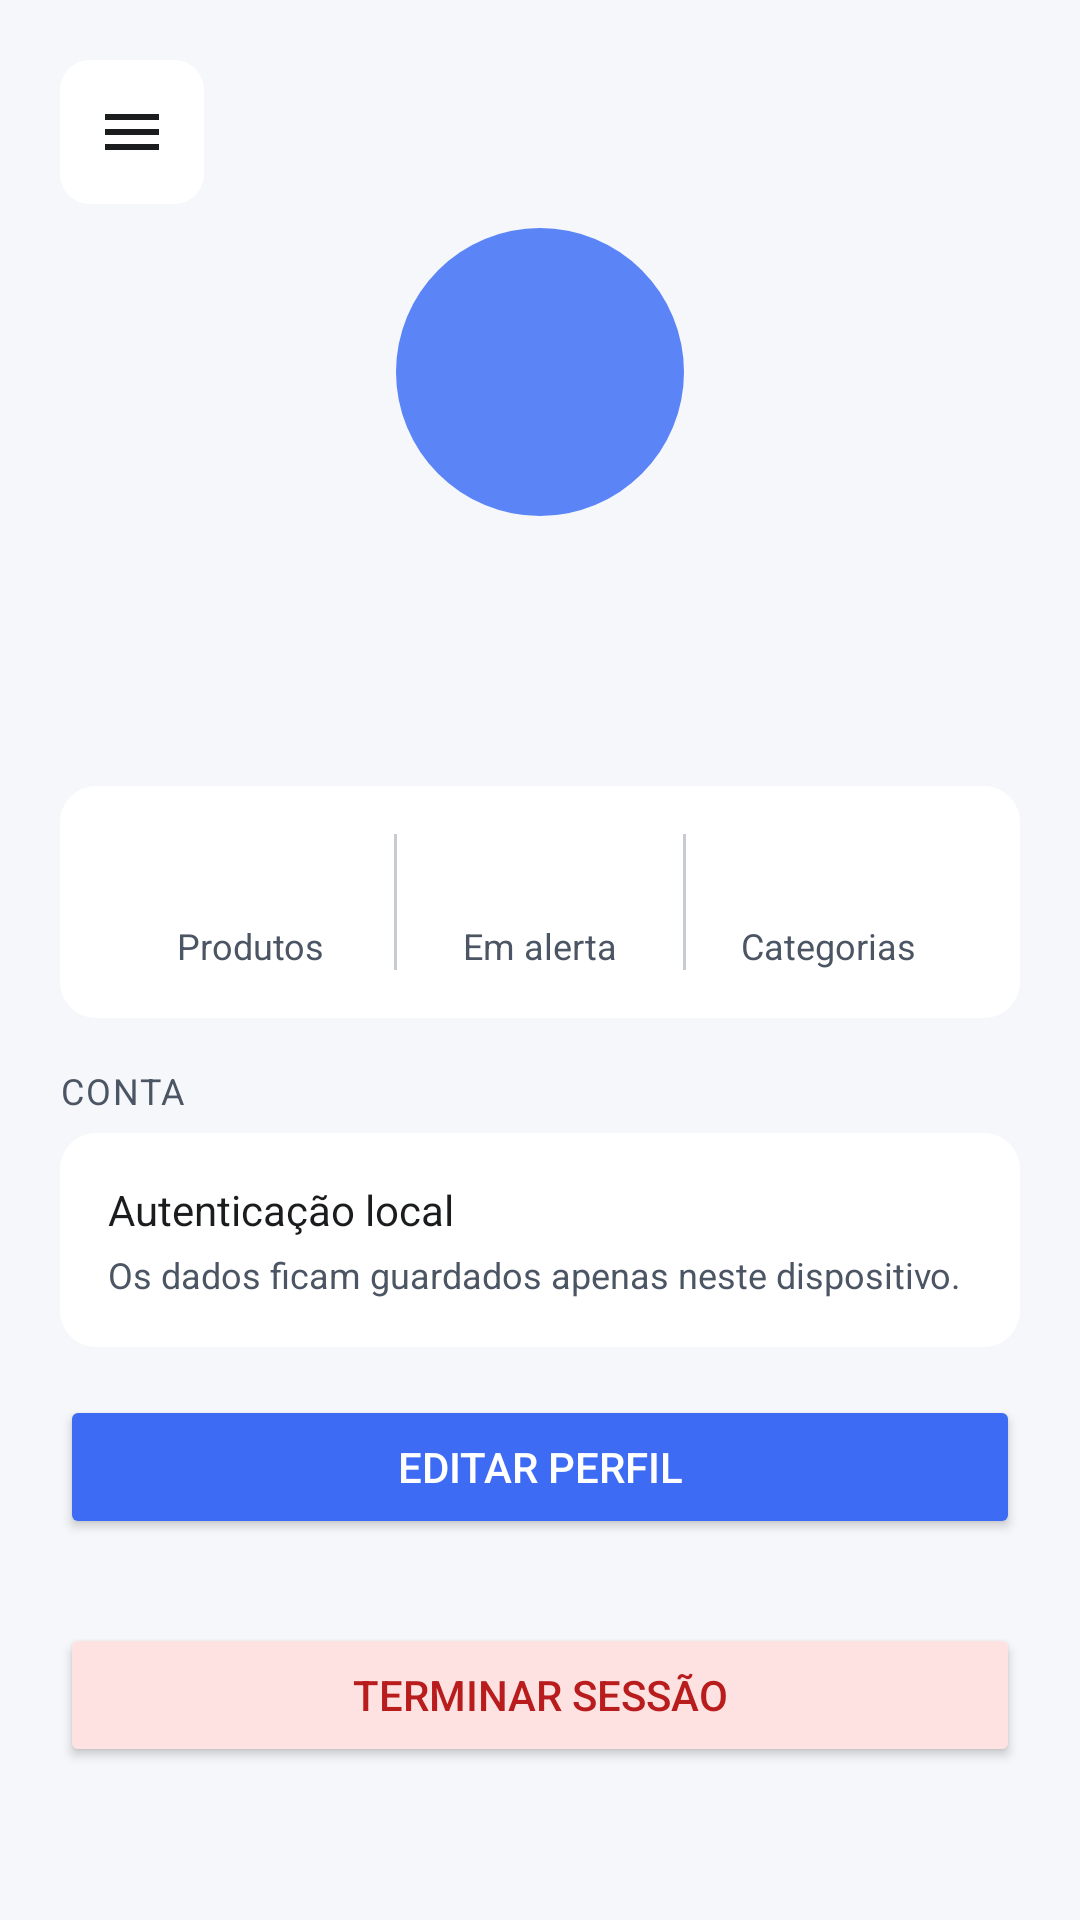

Screen size 1080 × 1920. Icon name, then its box in pixels as (x1, y1, x2, y2):
Abrir menu: (105, 114, 159, 150)
